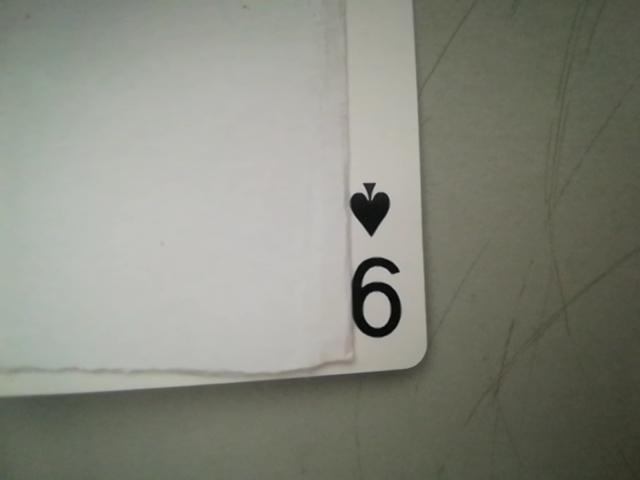ht 9: (336, 174, 422, 359)
